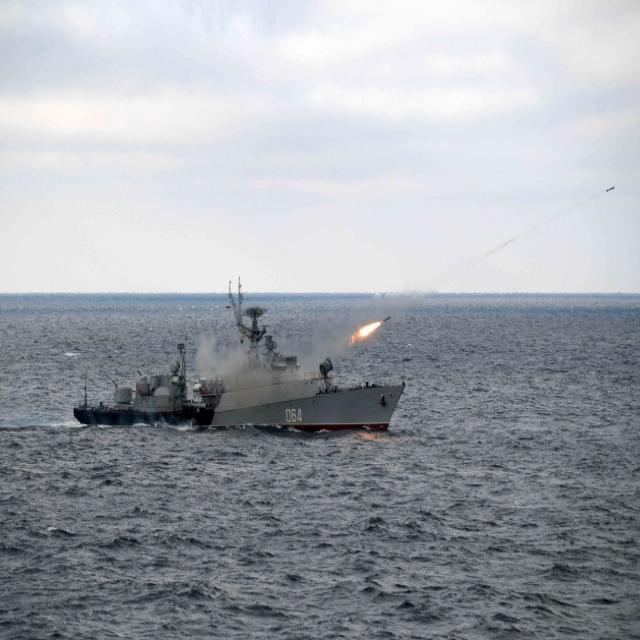navalvessels: (201, 281, 404, 463), (49, 317, 210, 438)
